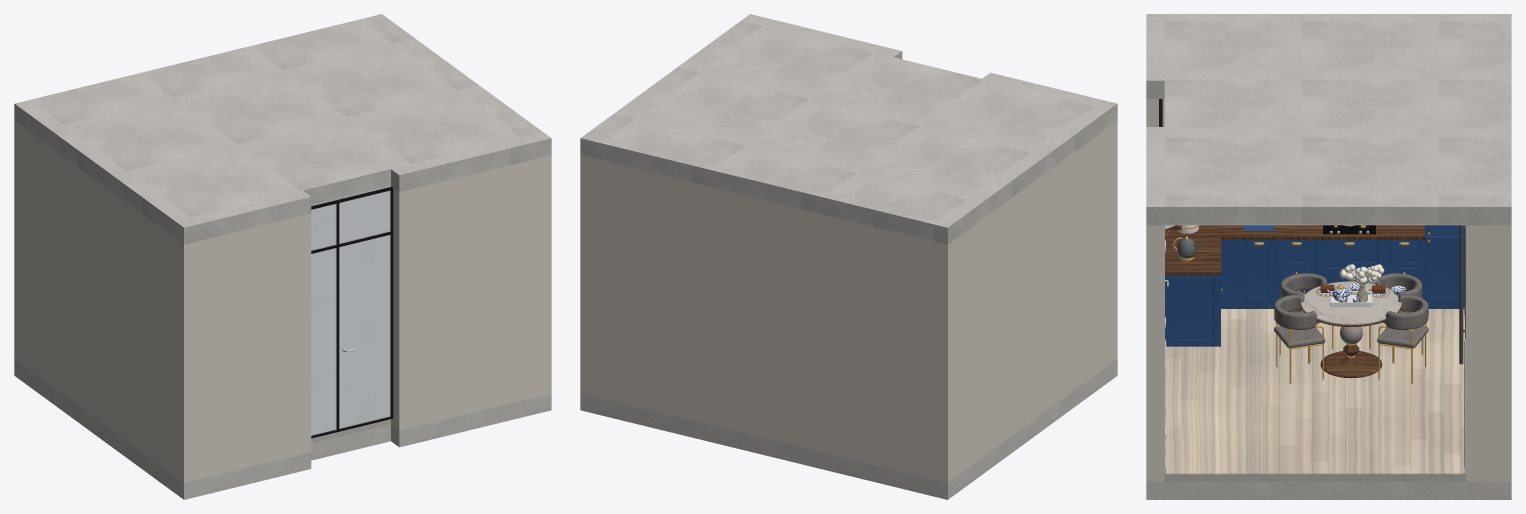
The picture shows the model from 3 angles, left to right: view 1: azimuth 30°, elevation 25°; view 2: azimuth 150°, elevation 25°; view 3: azimuth 270°, elevation 25°; orthographic projection. The views are drawn at different scales.
Visible parts, largest first — view 1: Wall | Стена 200 мм — перегородка (сущ.) (×3), Slab | Плита перекрытия (над квартирой), Door | Перегородка стеклянная с распашной дверью, стекло мат, Slab | Плита перекрытия (под квартирой); view 2: Wall | Стена 500 мм — перегородка (сущ.) (×2), Slab | Плита перекрытия (над квартирой), Wall | Стена 200 мм — перегородка (сущ.) (×2), Slab | Плита перекрытия (под квартирой); view 3: Slab | Плита перекрытия (над квартирой), Covering | П1 — пол пом. 01, Furniture | Кухня — нижние модули у стены фартука 2250×600, Wall | Стена 500 мм — перегородка (сущ.), Slab | Плита перекрытия (под квартирой), Furniture | Стул-полукресло: латунный каркас, велюр серый (×4), Furniture | Кухня — нижние модули у левой стены 1500×600 (то, Wall | Стена 200 мм — перегородка (сущ.) (×2), Furniture | Стол обеденный круглый Ø1100, точёная опора (оре, Furniture | Кухня — колонна 450 с встроенным холодильником, Covering | Основание пола пом. 01, Furniture | Сервировка стола: поднос, чайник, чашки, тарелки (+3 smaller).
Boxes of the visible parts, left/top/right/bottom form: Wall | Стена 200 мм — перегородка (сущ.) (×3): left=14, top=120, right=551, bottom=482; Slab | Плита перекрытия (над квартирой): left=14, top=14, right=551, bottom=244; Door | Перегородка стеклянная с распашной дверью, стекло мат: left=311, top=186, right=393, bottom=438; Slab | Плита перекрытия (под квартирой): left=14, top=359, right=551, bottom=499; Wall | Стена 500 мм — перегородка (сущ.) (×2): left=580, top=155, right=932, bottom=479; Slab | Плита перекрытия (над квартирой): left=580, top=14, right=1117, bottom=244; Wall | Стена 200 мм — перегородка (сущ.) (×2): left=820, top=120, right=1117, bottom=482; Slab | Плита перекрытия (под квартирой): left=580, top=359, right=1117, bottom=499; Slab | Плита перекрытия (над квартирой): left=1146, top=14, right=1511, bottom=225; Covering | П1 — пол пом. 01: left=1164, top=309, right=1465, bottom=474; Furniture | Кухня — нижние модули у стены фартука 2250×600: left=1221, top=225, right=1424, bottom=308; Wall | Стена 500 мм — перегородка (сущ.): left=1466, top=225, right=1511, bottom=481; Slab | Плита перекрытия (под квартирой): left=1146, top=481, right=1511, bottom=499; Furniture | Стул-полукресло: латунный каркас, велюр серый (×4): left=1274, top=273, right=1428, bottom=383; Furniture | Кухня — нижние модули у левой стены 1500×600 (то: left=1165, top=225, right=1222, bottom=346; Wall | Стена 200 мм — перегородка (сущ.) (×2): left=1146, top=99, right=1164, bottom=481; Furniture | Стол обеденный круглый Ø1100, точёная опора (оре: left=1301, top=281, right=1401, bottom=378; Furniture | Кухня — колонна 450 с встроенным холодильником: left=1425, top=225, right=1464, bottom=308; Covering | Основание пола пом. 01: left=1164, top=474, right=1465, bottom=481; Furniture | Сервировка стола: поднос, чайник, чашки, тарелки: left=1315, top=264, right=1406, bottom=306.
Size of the model in its own units: 5 by 3.54 by 4.
Materials: 41 (10 with a texture image).
